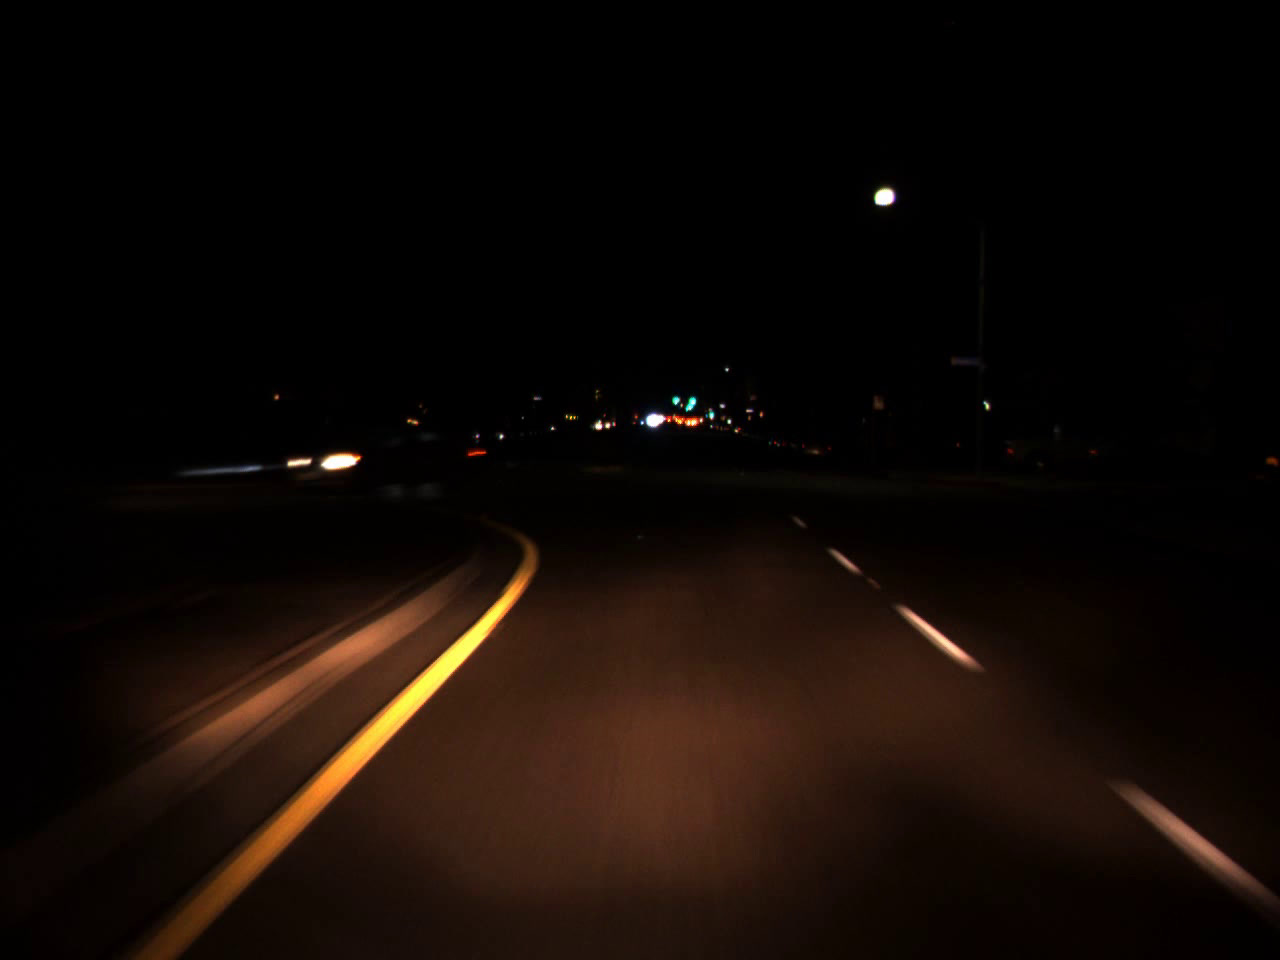go: (685, 386, 699, 410), (672, 390, 679, 405), (708, 406, 715, 418)
